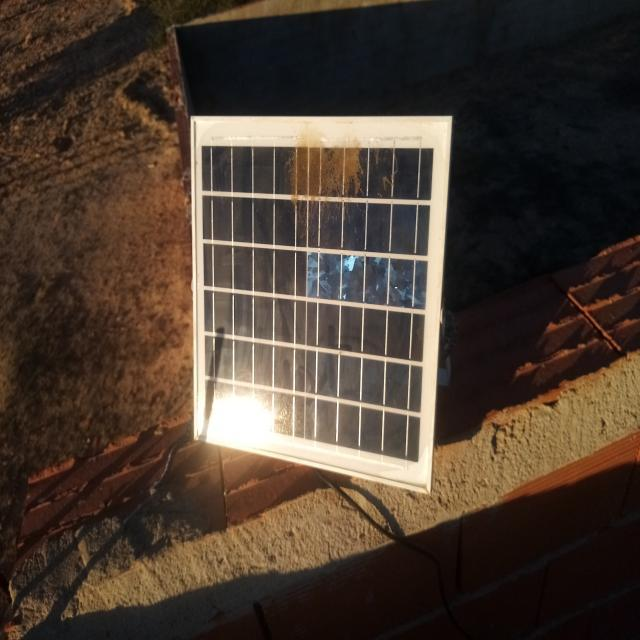faulty: (193, 117, 451, 490)
